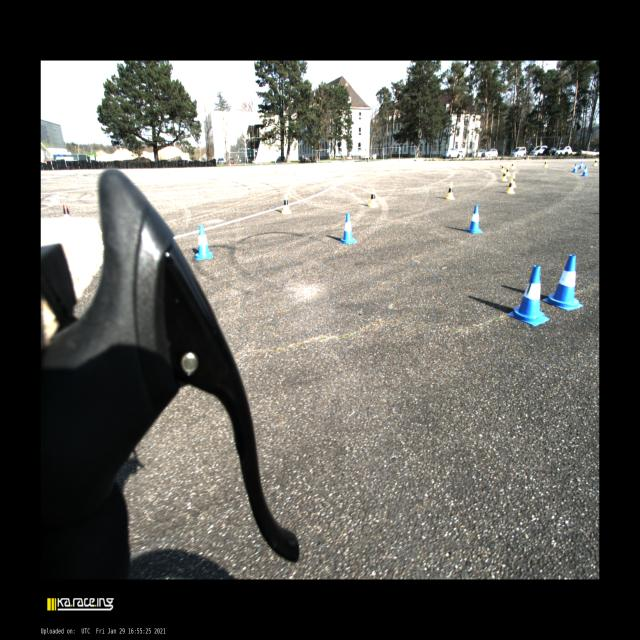blue_cone: (508, 265, 549, 326), (542, 255, 584, 311), (195, 225, 213, 260), (339, 213, 357, 244), (466, 206, 483, 233), (581, 166, 588, 177), (572, 163, 578, 173), (578, 161, 584, 169)
orange_cone: (63, 203, 71, 219)
yellow_cone: (282, 193, 292, 214), (368, 188, 378, 208), (446, 182, 455, 200), (506, 178, 515, 194), (502, 170, 508, 181), (512, 173, 516, 188), (506, 166, 510, 176), (593, 158, 598, 166), (543, 160, 548, 167), (510, 162, 514, 170), (501, 164, 504, 172)
